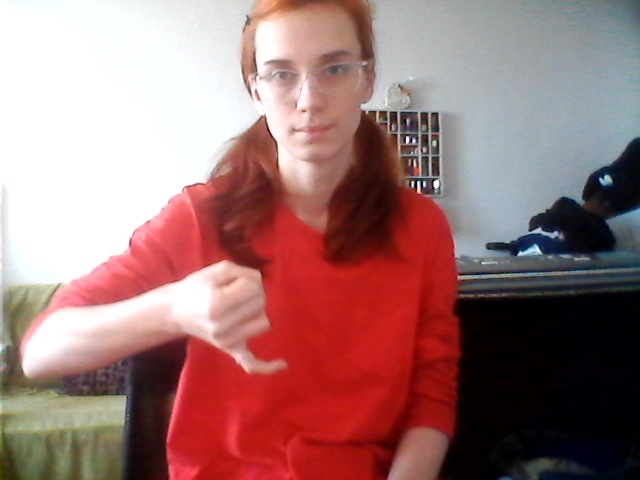j: (166, 250, 315, 391)
